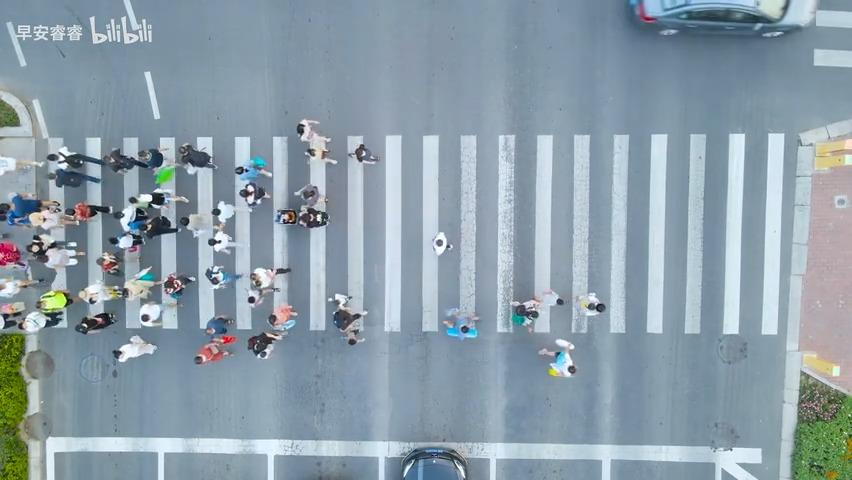Civilian: (510, 289, 563, 332), (296, 118, 338, 164), (245, 266, 291, 308), (39, 145, 104, 172), (296, 199, 336, 242), (20, 310, 74, 341), (41, 167, 102, 193), (537, 338, 576, 377), (427, 221, 462, 262), (201, 231, 254, 258), (25, 209, 83, 233), (332, 306, 367, 345), (131, 188, 196, 209), (75, 277, 125, 304), (177, 214, 228, 240), (61, 197, 116, 221), (32, 247, 89, 270), (442, 313, 484, 344), (178, 142, 218, 174), (112, 334, 157, 362), (207, 201, 263, 223), (162, 272, 196, 307), (137, 147, 180, 174), (140, 215, 181, 243), (25, 236, 81, 256), (510, 298, 540, 332), (247, 331, 283, 359), (510, 289, 563, 308), (193, 339, 233, 364), (101, 150, 141, 175), (74, 311, 117, 334), (234, 156, 272, 182), (104, 232, 148, 254), (91, 250, 132, 273), (204, 265, 243, 289), (267, 304, 298, 333), (270, 205, 309, 228), (122, 274, 159, 298), (36, 290, 80, 310), (316, 290, 354, 313), (138, 304, 169, 332), (238, 181, 271, 207), (293, 183, 328, 207), (347, 143, 380, 164), (203, 314, 234, 335), (576, 292, 605, 313)
